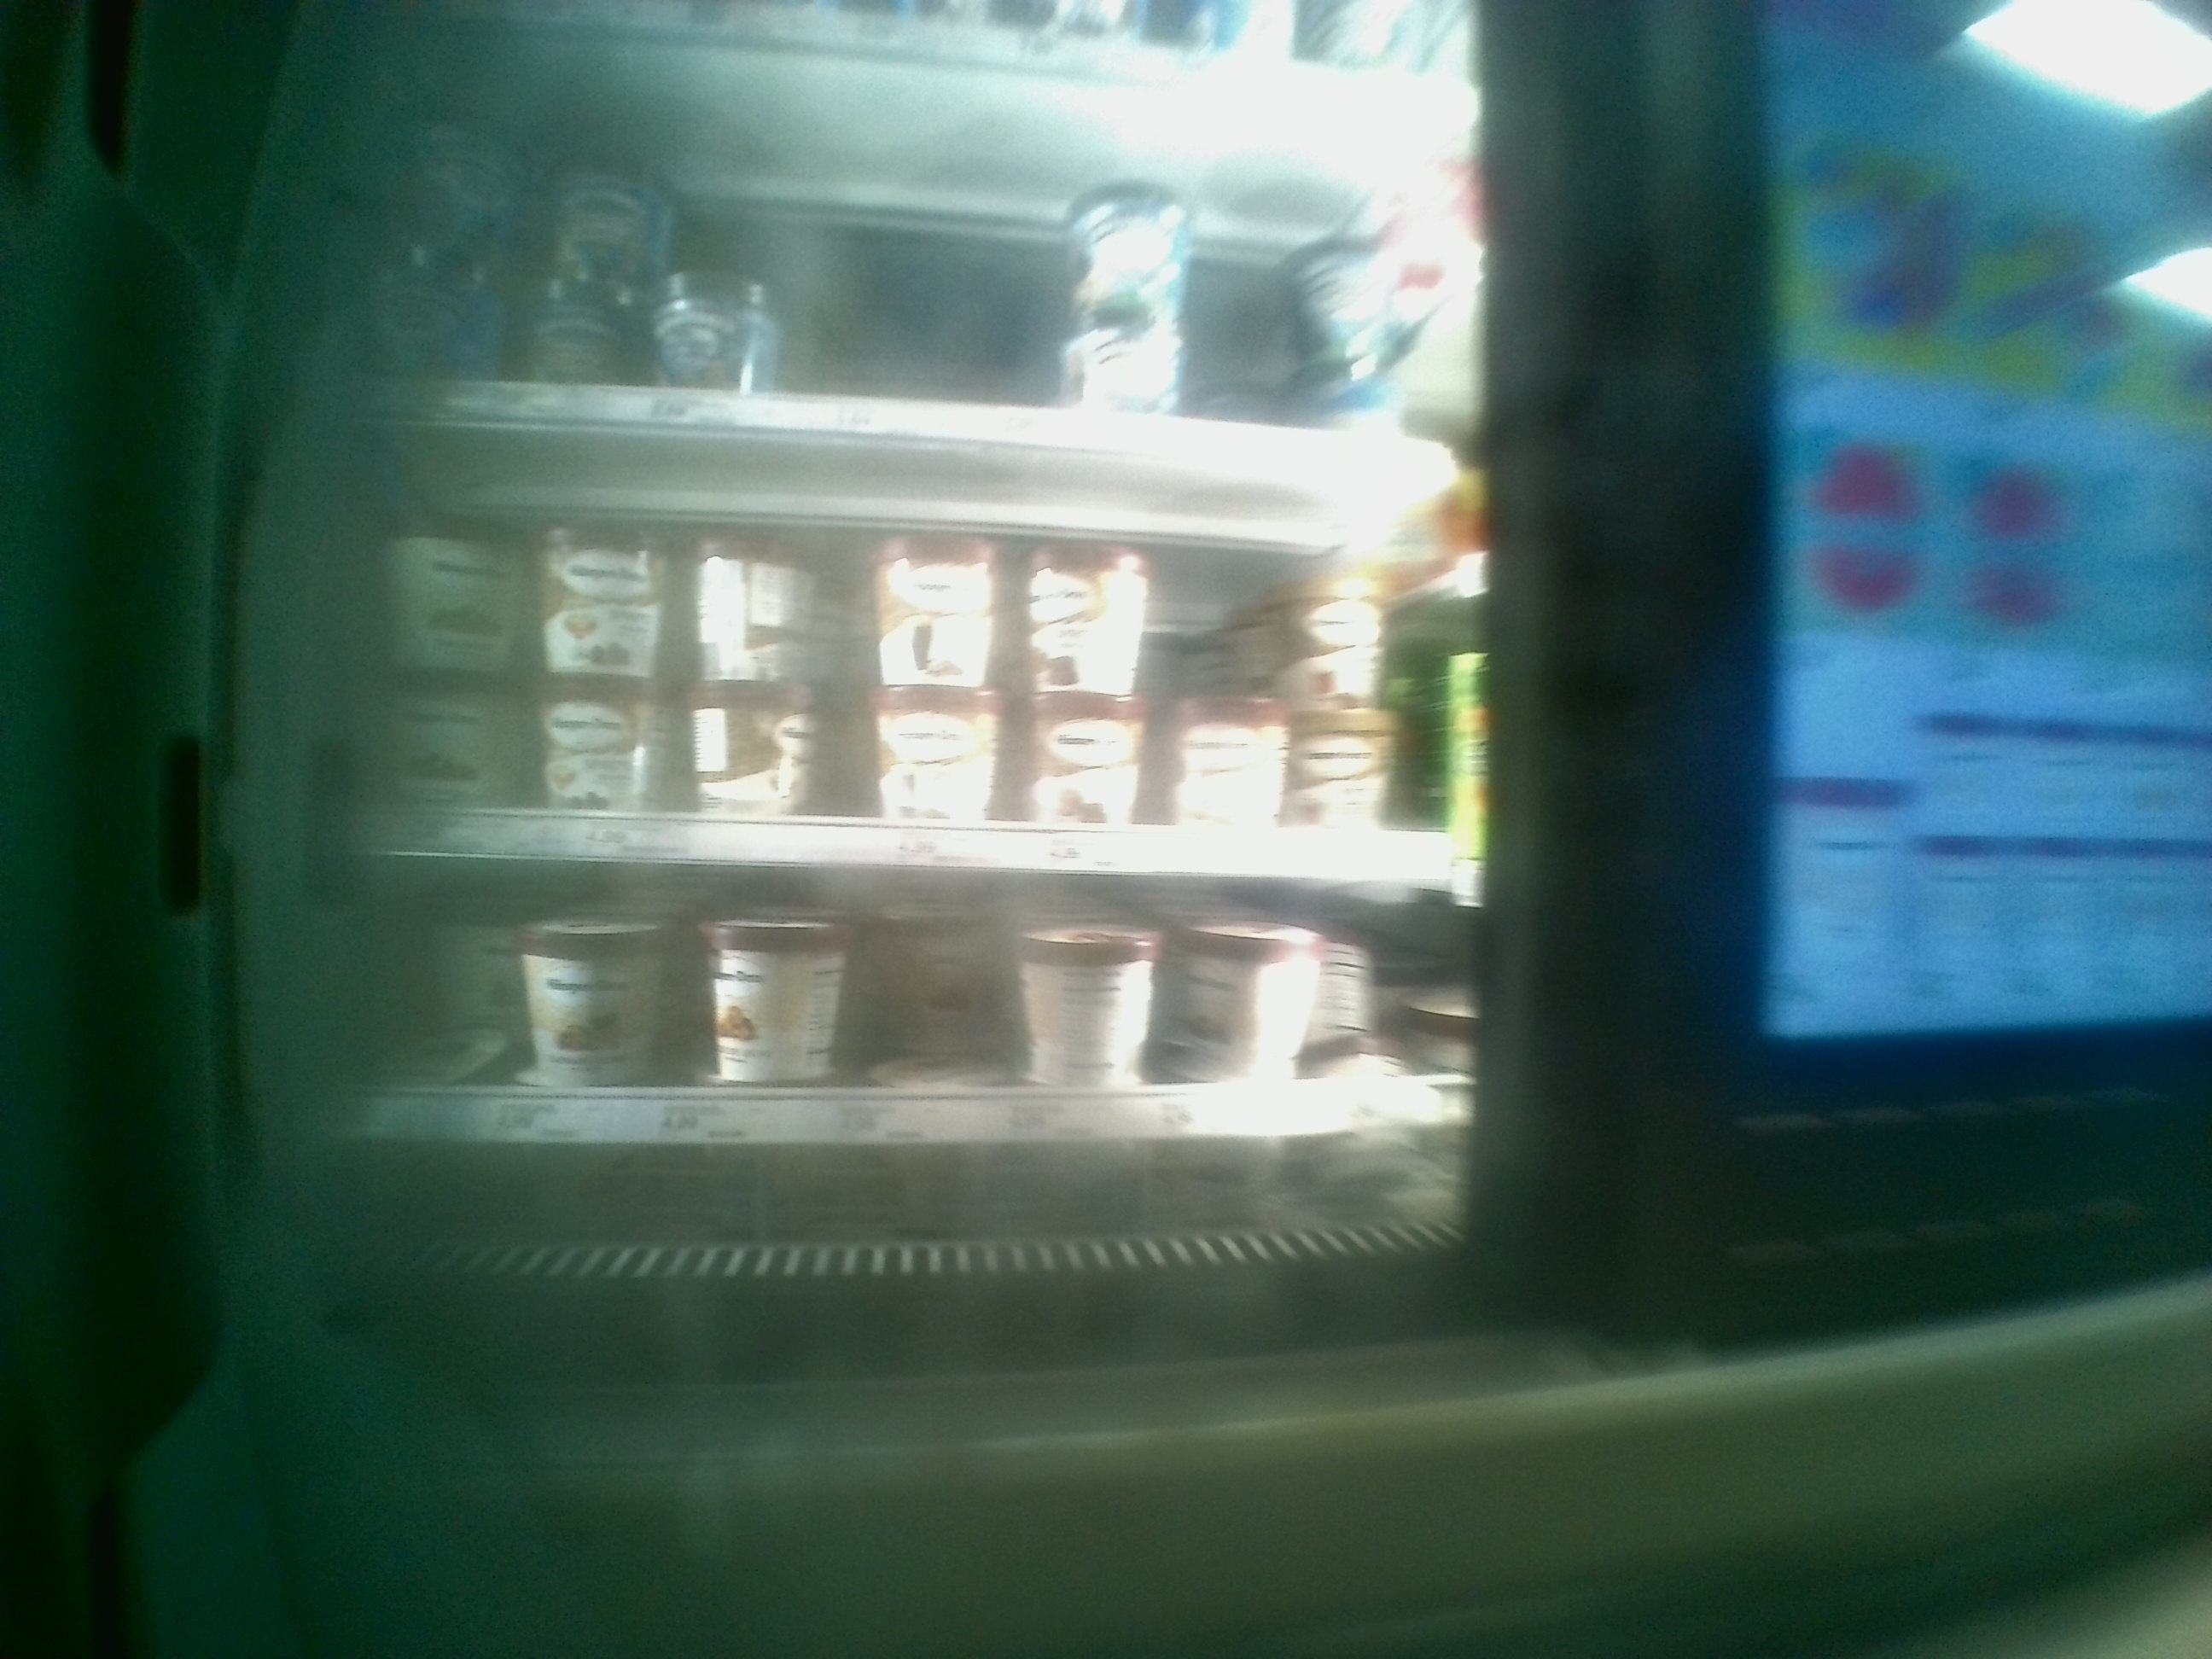shelf: (319, 420, 1503, 871), (314, 873, 1486, 1236)
